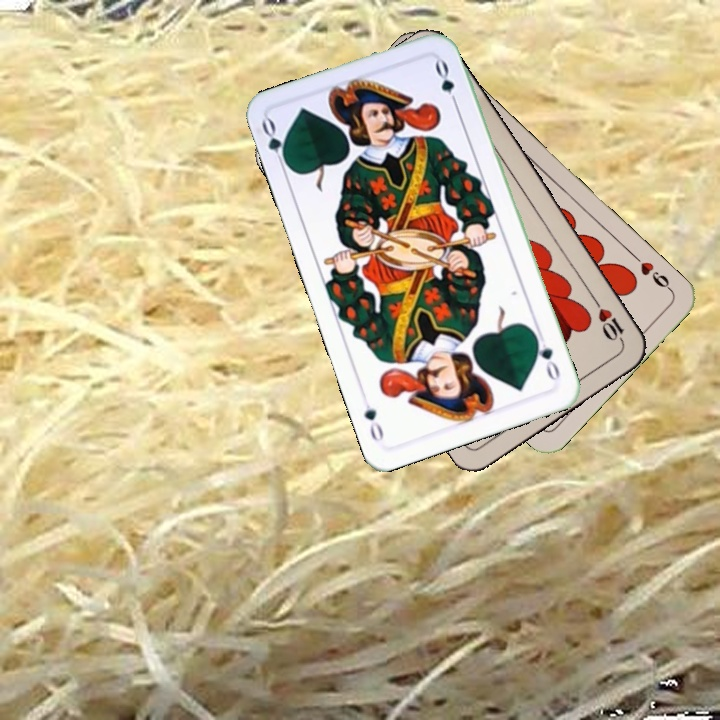GO: (257, 115, 292, 173), (530, 329, 563, 383)
H10: (588, 293, 627, 345)
H9: (627, 249, 675, 294)
